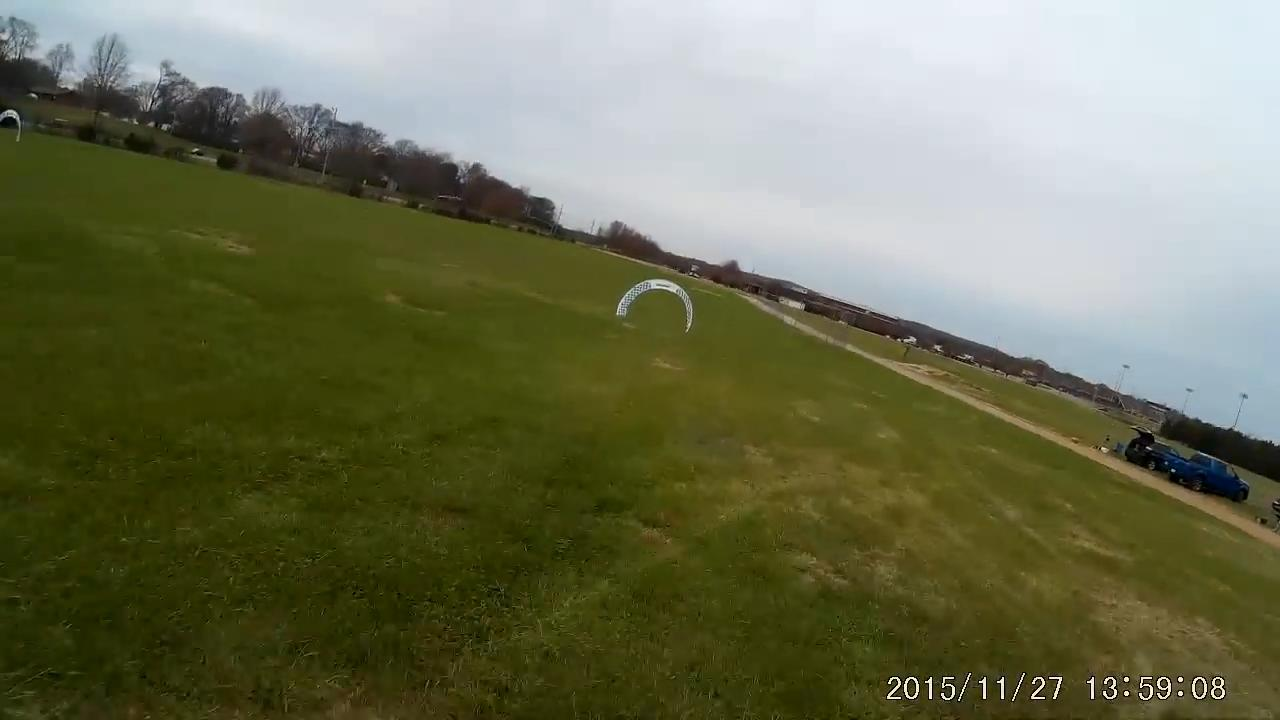gate: (615, 277, 696, 336)
